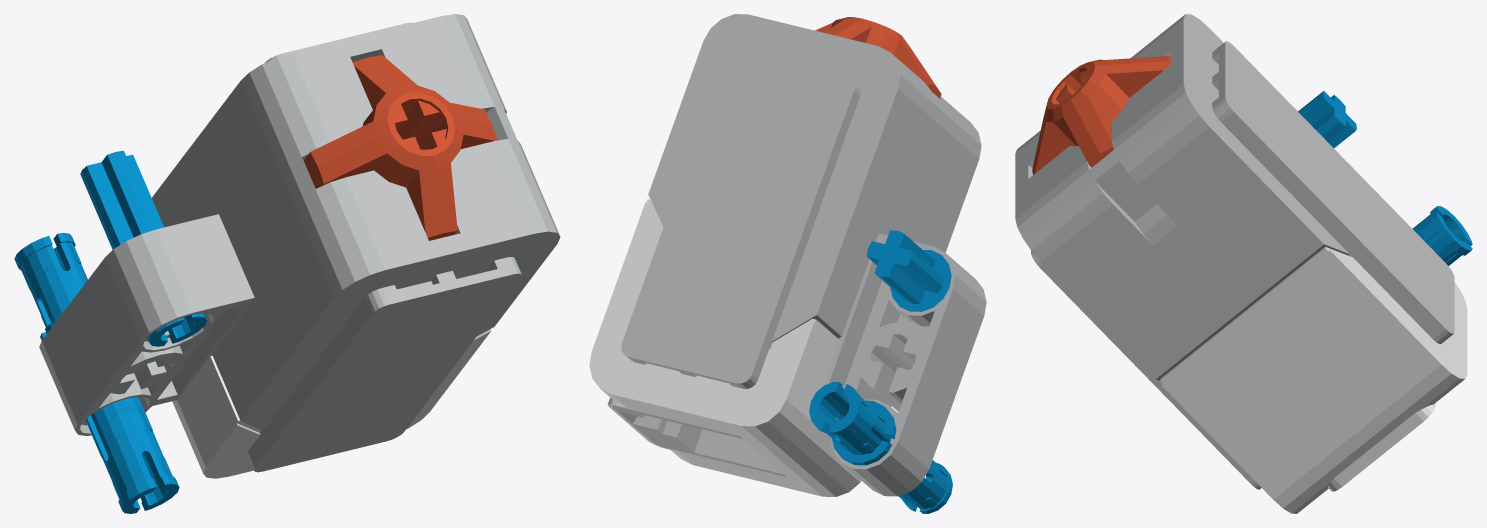
Rendered from hackev_touch.dae.
3 renders of one model, left to right at view 1: azimuth 30°, elevation 25°; view 2: azimuth 150°, elevation 25°; view 3: azimuth 270°, elevation 25°, orthographic. The views are drawn at different scales.
Parts seen in each view (by area): view 1: Piece168, Piece160, Piece162; view 2: Piece168, Piece160, Piece162; view 3: Piece168, Piece160, Piece162.
Part boxes in pixels (x1,y1,x2,y2): Piece168: [39, 14, 560, 478]; Piece160: [14, 233, 179, 513]; Piece162: [80, 150, 206, 346]; Piece168: [589, 14, 986, 496]; Piece160: [809, 382, 952, 513]; Piece162: [866, 230, 951, 311]; Piece168: [1015, 14, 1467, 513]; Piece160: [1412, 206, 1472, 265]; Piece162: [1298, 91, 1356, 148].
Bounding box in the file's own units: 0.0312 × 0.0423 × 0.0437.
